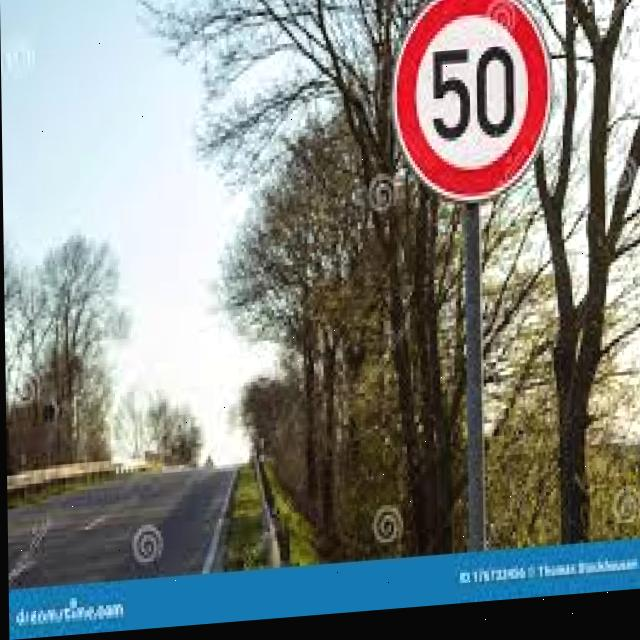Speed limit 50: (389, 1, 554, 217)
